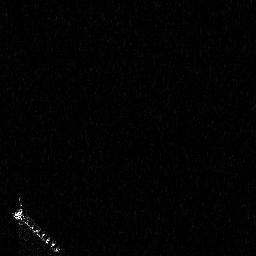ship: (8, 194, 62, 254)
